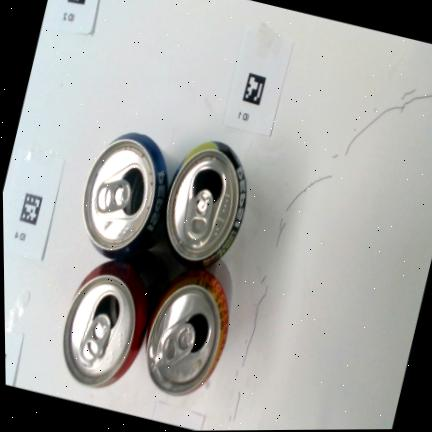can_coke_decaf: (146, 270, 228, 395)
can_coke_zero: (63, 261, 148, 386)
can_pepsi: (83, 132, 168, 258)
can_pepsi_zero: (166, 141, 246, 266)
